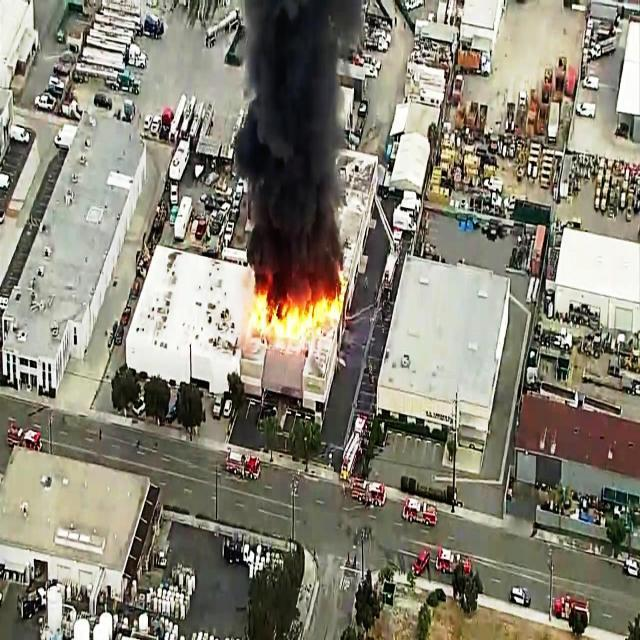Fire: (255, 284, 342, 337)
Smoke: (248, 0, 338, 262)
